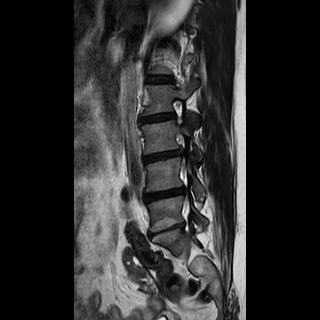RFS0: (161, 92, 195, 128)
